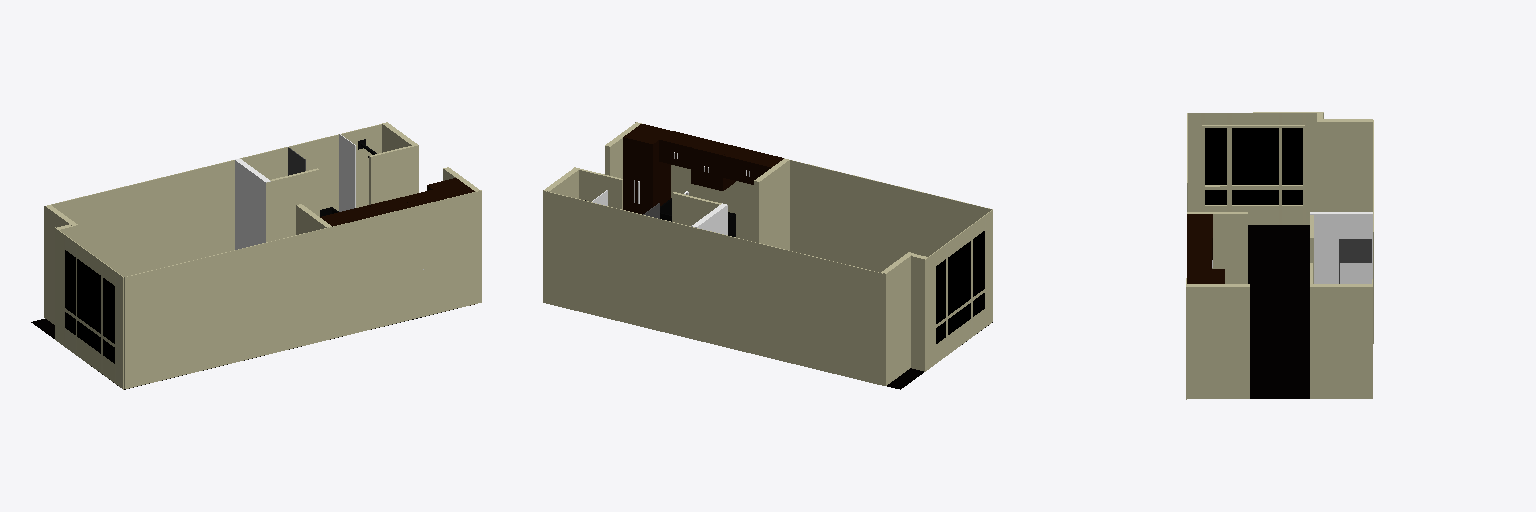
Rendered from studio1.obj.
3 views of the same model, side by side, from view 1: azimuth 30°, elevation 25°; view 2: azimuth 150°, elevation 25°; view 3: azimuth 270°, elevation 25° (orthographic).
Parts seen in each view (by area): view 1: righwall, leftwall, windowwall, crWall2, crWall, showerWall, backwall, showerGlass, kitchenwall, longcabinet, frontwall, tallCabinet; view 2: leftwall, righwall, windowwall, tallCabinet, backwall, kitchenwall, mediumcabinet, smallwall, longcabinet, showerWall, smallCabinet, crWall2 (+3 smaller); view 3: windowwall, floor, frontwall2, frontwall, backwall, crWall, kitchenwall, crGlass, showerGlass, longcabinet, tallCabinet.
Part boxes in pixels (x1,y1,x2,y2): righwall: (124, 190, 481, 388); leftwall: (44, 124, 381, 317); windowwall: (55, 227, 123, 389); crWall2: (266, 168, 319, 241); crWall: (235, 158, 270, 249); showerWall: (369, 144, 418, 204); backwall: (45, 205, 77, 324); showerGlass: (339, 134, 355, 211); kitchenwall: (296, 204, 331, 234); longcabinet: (320, 205, 380, 226); frontwall: (382, 122, 416, 152); tallCabinet: (427, 178, 474, 311); leftwall: (543, 191, 885, 385); righwall: (635, 122, 991, 309); windowwall: (925, 209, 992, 371); tallCabinet: (623, 124, 670, 214); backwall: (881, 252, 913, 385); kitchenwall: (754, 158, 789, 250); mediumcabinet: (691, 139, 735, 190); smallwall: (911, 254, 926, 371); longcabinet: (723, 146, 783, 184); showerWall: (574, 167, 622, 209); smallCabinet: (659, 131, 703, 168); crWall2: (672, 192, 721, 225); windowwall: (1188, 112, 1323, 224); floor: (1248, 225, 1309, 398); frontwall2: (1187, 284, 1249, 398); frontwall: (1313, 284, 1372, 398); backwall: (1317, 119, 1372, 211); crWall: (1310, 212, 1372, 283); kitchenwall: (1187, 212, 1247, 283); crGlass: (1339, 239, 1371, 283); showerGlass: (1340, 263, 1372, 283); longcabinet: (1187, 214, 1212, 259); tallCabinet: (1187, 269, 1224, 283).
Size of the model in its own units: 6.69 by 2.02 by 3.02.